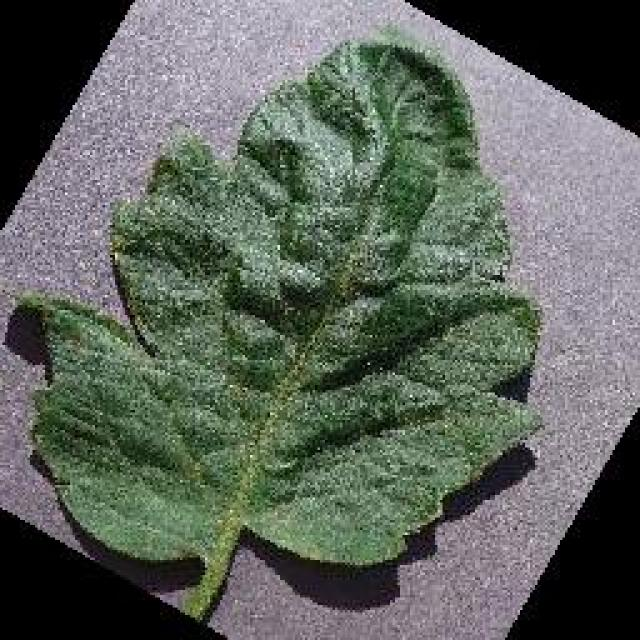Tomato___Target_Spot: (15, 38, 540, 618)
